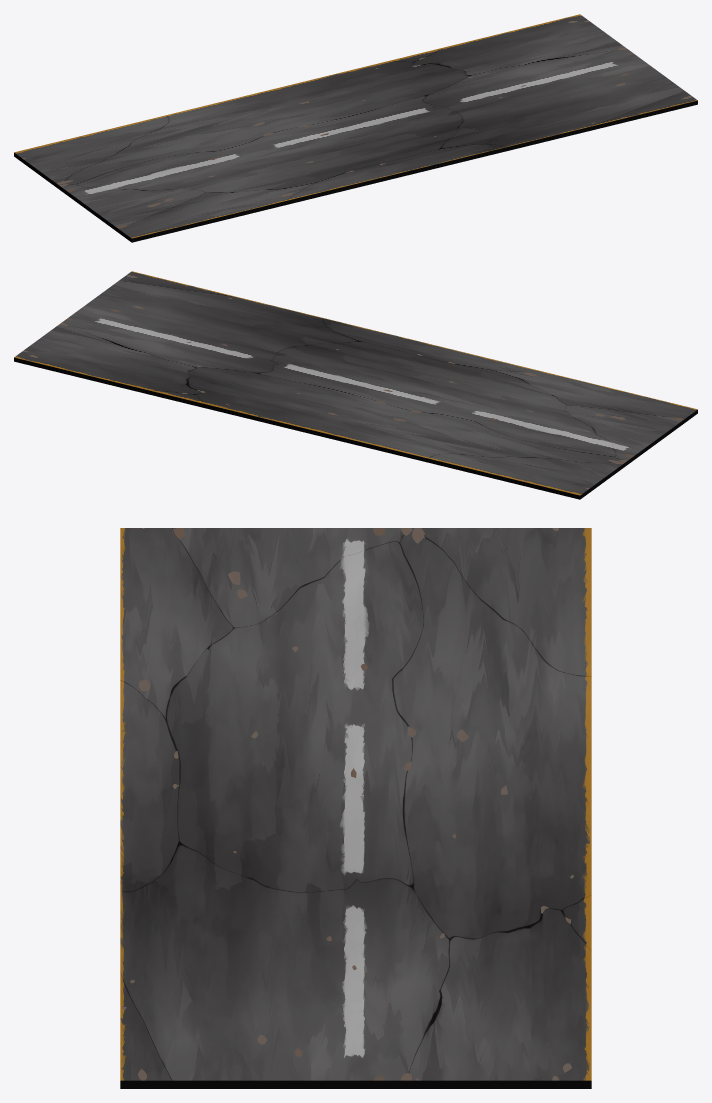
Rendered from Road_Room003.fbx.
3 renders of one model, top to bottom at view 1: azimuth 30°, elevation 25°; view 2: azimuth 150°, elevation 25°; view 3: azimuth 270°, elevation 25°, orthographic. The views are drawn at different scales.
Visible parts, largest first — view 1: Cube; view 2: Cube; view 3: Cube.
Boxes of the visible parts, x1=… form: Cube: x1=14, y1=14, x2=697, y2=242; Cube: x1=14, y1=271, x2=697, y2=499; Cube: x1=120, y1=528, x2=591, y2=1088.
Bounding box in the file's own units: 1724 × 11.94 × 622.
Materials: 2 (1 with a texture image).
